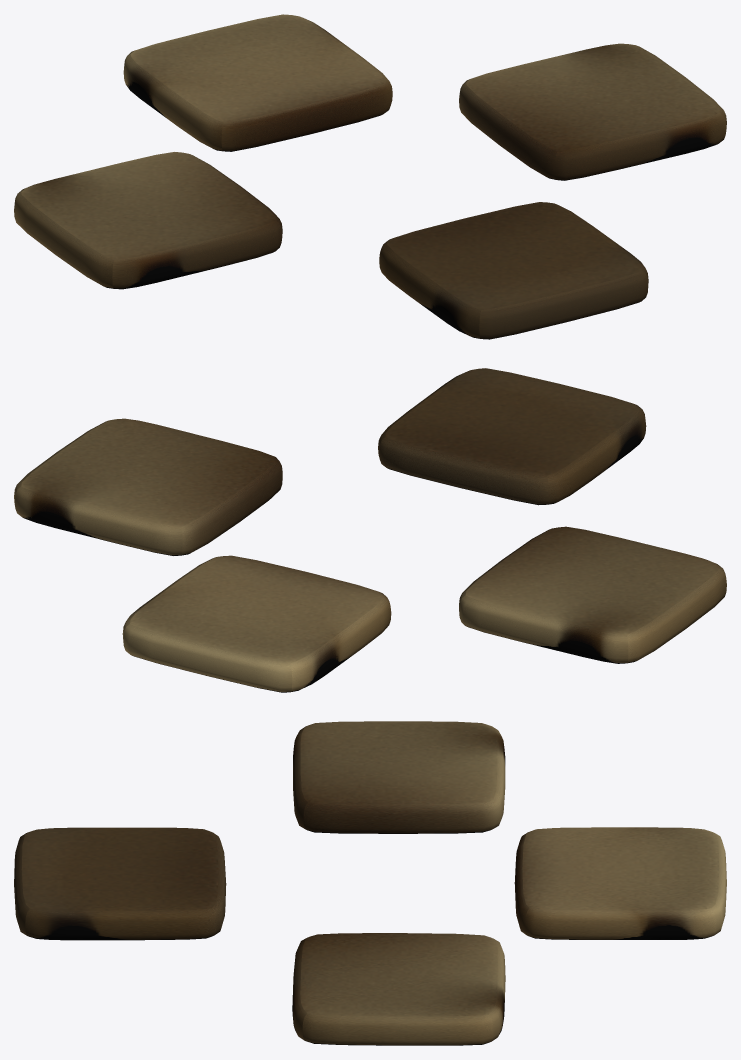
3 views of the same model, one above another, from view 1: azimuth 30°, elevation 25°; view 2: azimuth 150°, elevation 25°; view 3: azimuth 270°, elevation 25° (orthographic). The views are drawn at different scales.
Parts seen in each view (by area): view 1: Room; view 2: Room; view 3: Room.
Boxes of the visible parts, x1,y1,x2,y2 form: Room: (14,14,726,339); Room: (14,368,726,692); Room: (14,721,726,1045).
Bounding box in the file's own units: 14.56 × 0.7001 × 14.54.
1 material, 1 textured.
